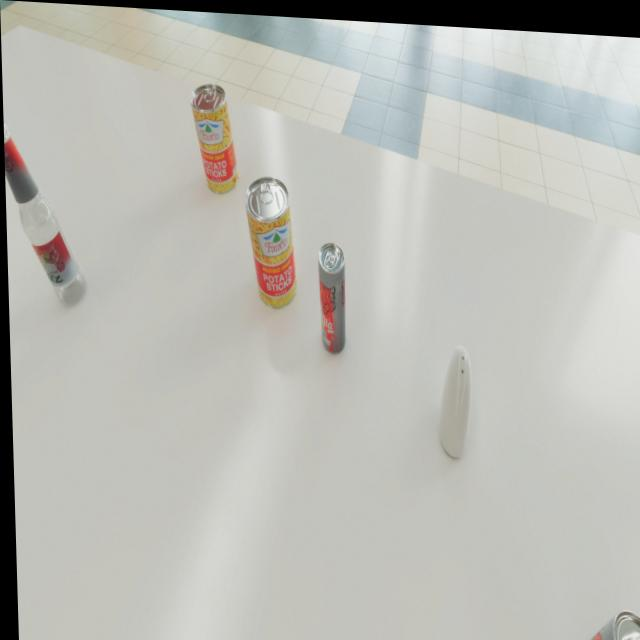Bottle: (3, 120, 85, 305)
Potato_sticks: (243, 172, 296, 306), (189, 80, 238, 192)
Rita_zero_sugar: (316, 238, 346, 351)
Salt: (434, 339, 471, 453)
